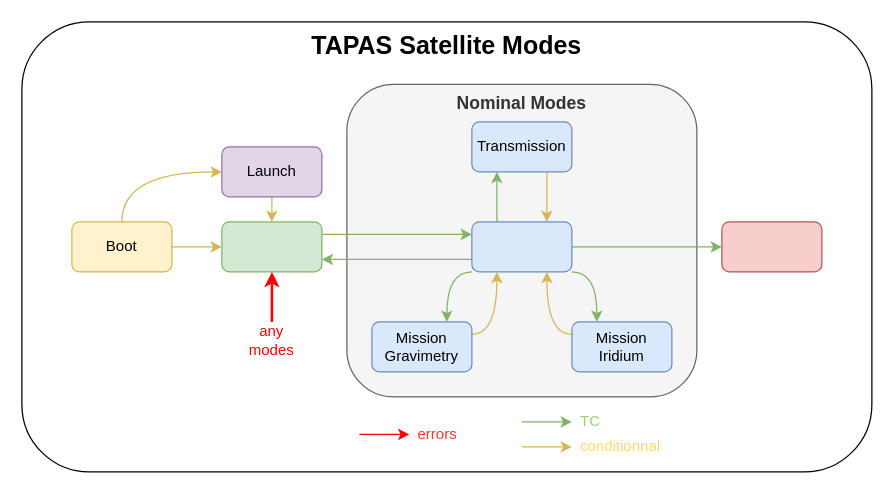
Some shapes in this 894 by 494 pixel diagram are drawn without their labels. Here are the shapes that lost their labels. From the top down, the centre of each, then its label:
the point at 271,246: Safe
the point at 521,246: Idle
the point at 771,246: End of life
